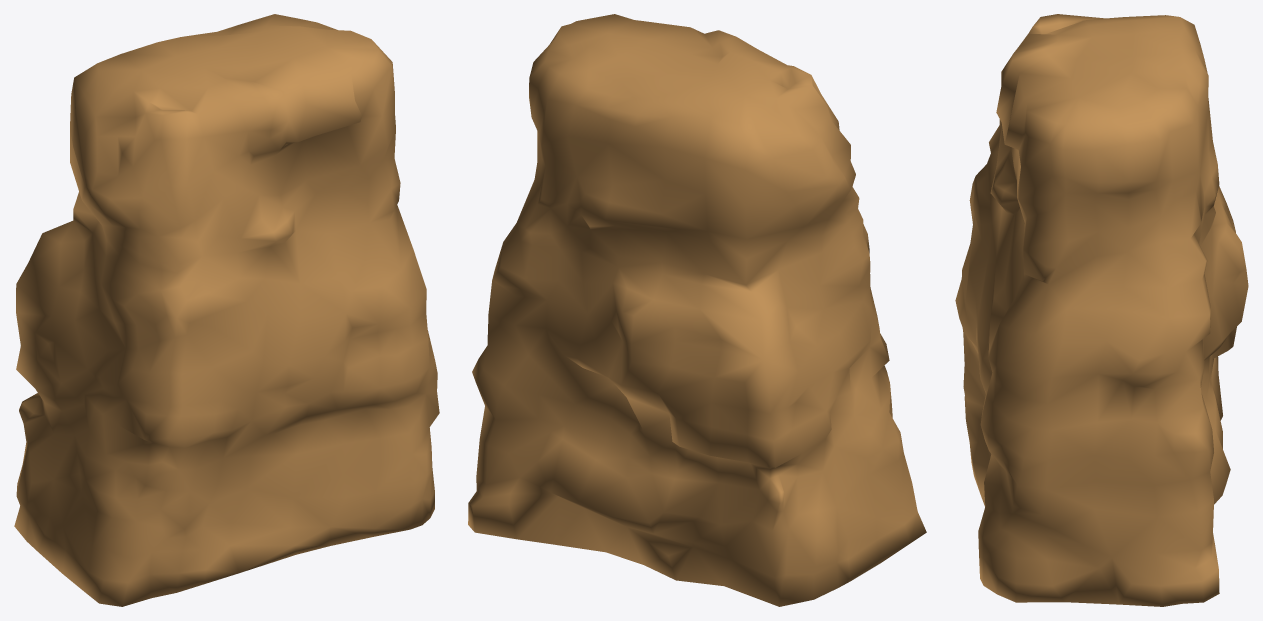
File: MSH_Rocks_Cliff_12_a.FBX
3 views of the same model, side by side, from view 1: azimuth 30°, elevation 25°; view 2: azimuth 150°, elevation 25°; view 3: azimuth 270°, elevation 25° (orthographic).
Parts seen in each view (by area): view 1: MESH_LOD0; view 2: MESH_LOD0; view 3: MESH_LOD0.
Boxes of the visible parts, x1,y1,x2,y2 form: MESH_LOD0: (14,14,439,606); MESH_LOD0: (468,14,926,606); MESH_LOD0: (955,14,1248,606).
Size of what is drawn, in the model's own units: 200 by 253 by 140.
